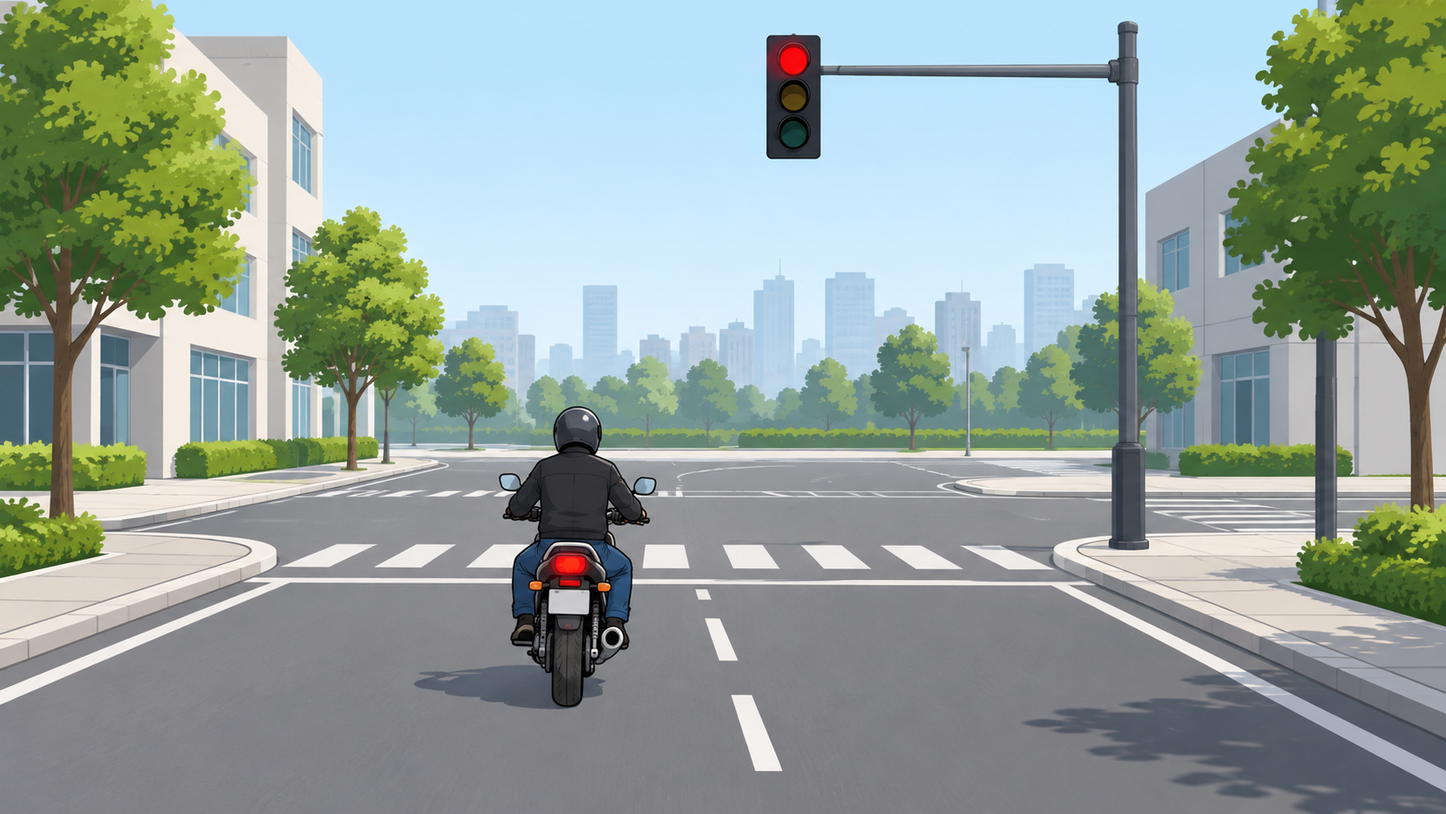motorcycle: (408, 409, 671, 688)
person: (419, 224, 650, 627)
stop_sign: (1110, 53, 1274, 218)
traffic_light: (765, 35, 822, 157)
zebra_crossing: (0, 525, 1446, 601)
